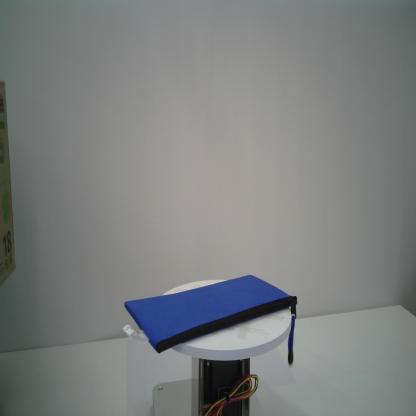Stationery: (124, 274, 297, 369)
